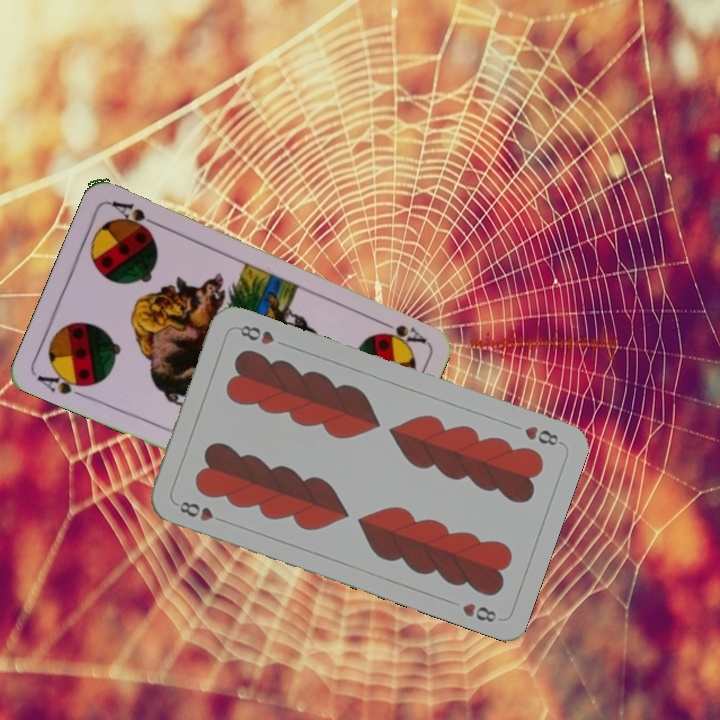H8: (175, 497, 229, 526), (520, 421, 564, 449)
SA: (33, 366, 94, 402), (372, 315, 428, 347)
